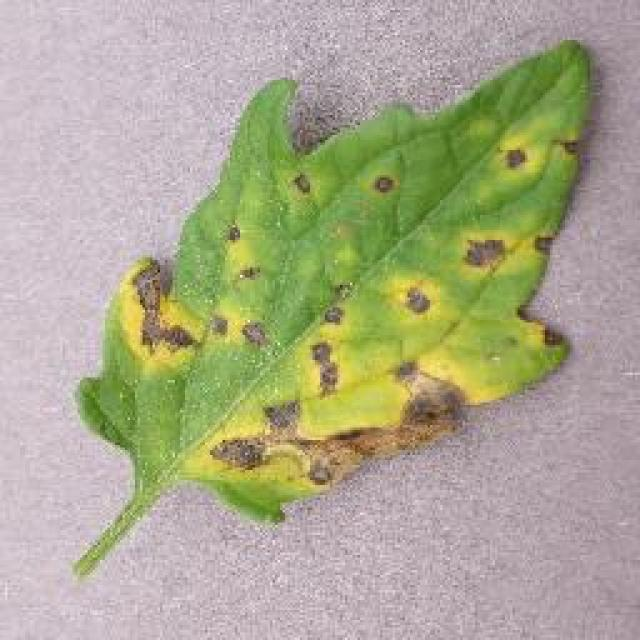Tom_Septoria_leaf_spot: (292, 269, 472, 466), (118, 240, 272, 376), (278, 155, 418, 224), (453, 212, 525, 292)
